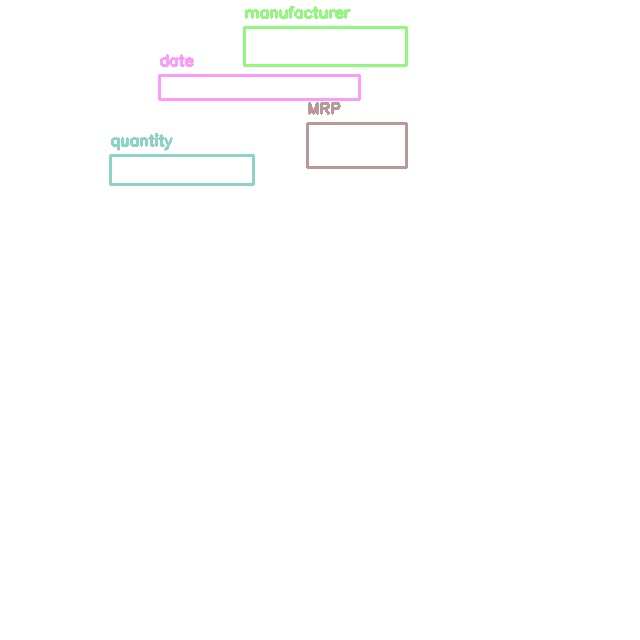MRP: (307, 123, 406, 167)
date: (159, 75, 359, 99)
manufacturer: (244, 27, 406, 65)
quantity: (110, 155, 253, 184)
